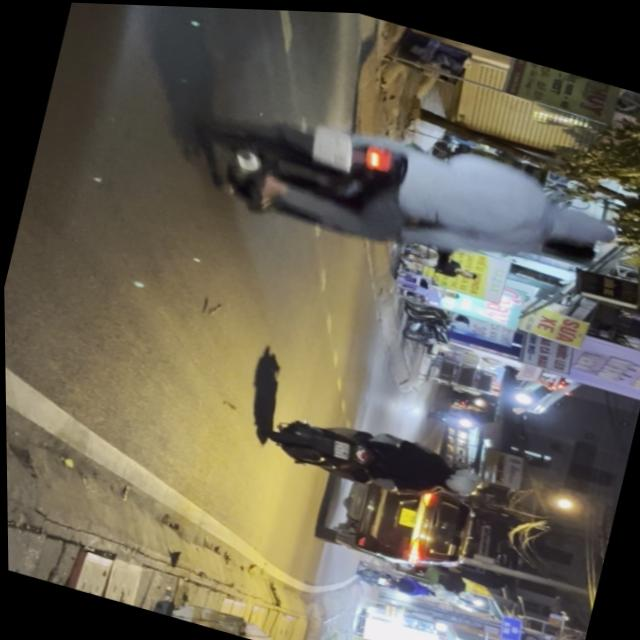helmet: (533, 193, 620, 250), (439, 461, 483, 494)
licenseplate: (174, 71, 631, 309), (250, 394, 489, 515)
nohelmet: (307, 120, 358, 169), (330, 437, 350, 458)
